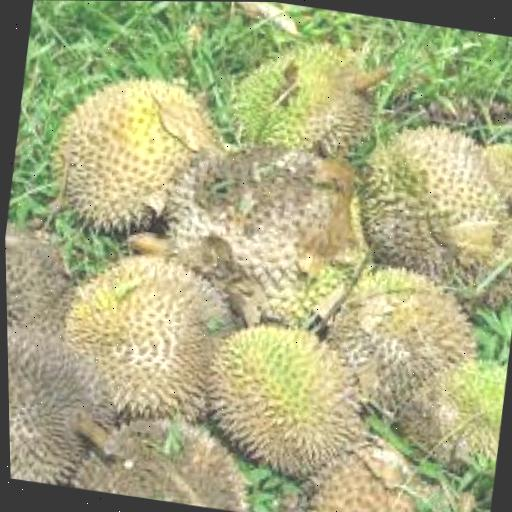mold: (130, 108, 380, 337), (262, 236, 512, 434), (28, 229, 250, 445), (343, 101, 512, 315)
rot: (31, 56, 234, 243), (195, 304, 393, 490), (7, 297, 127, 492), (62, 400, 280, 507), (4, 168, 90, 353)
